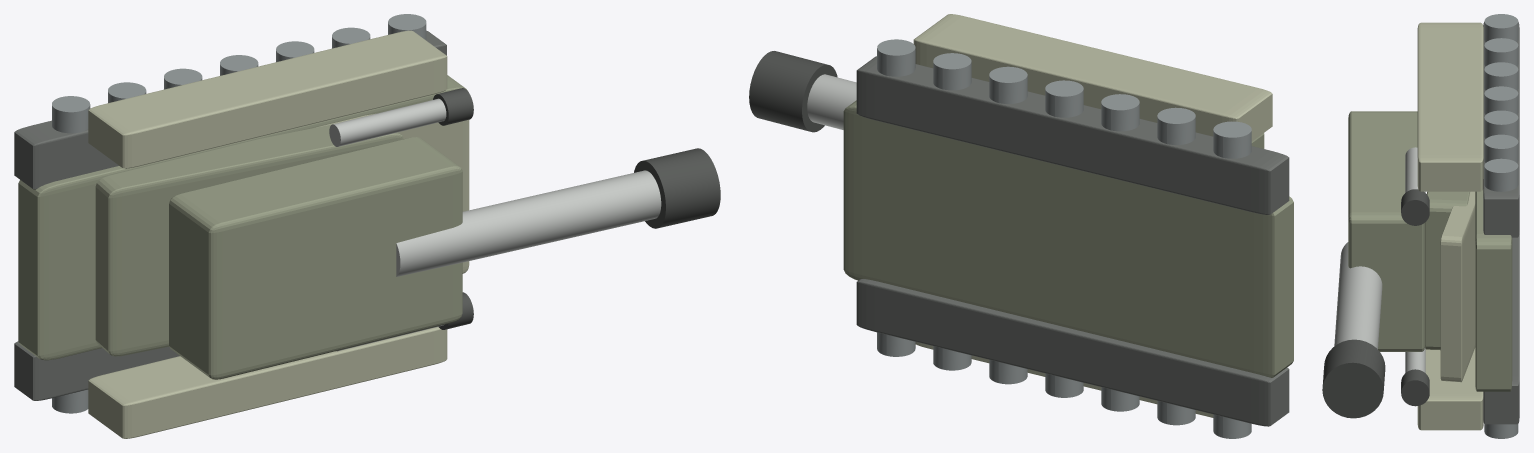
File: v-u20-vanguard-super-heavy-lod1.glb
3 renders of one model, left to right at view 1: azimuth 30°, elevation 25°; view 2: azimuth 150°, elevation 25°; view 3: azimuth 270°, elevation 25°, orthographic. The views are drawn at different scales.
Visible parts, largest first — view 1: superheavy_turret, armor_belt_1, upper_hull, armor_belt_-1, chassis_lower, superheavy_main_barrel_0, chassis_track_1, chassis_track_-1, superheavy_main_muzzle_0, sponson_1_barrel_0, chassis_glacis, chassis_roadwheel_1_0 (+3 smaller); view 2: chassis_lower, chassis_track_1, chassis_track_-1, armor_belt_1, superheavy_main_muzzle_0, superheavy_main_barrel_0, chassis_roadwheel_1_0, chassis_roadwheel_1_2, chassis_roadwheel_1_3, chassis_roadwheel_1_6, chassis_roadwheel_1_5, chassis_roadwheel_1_4 (+8 smaller); view 3: superheavy_turret, armor_belt_1, chassis_lower, chassis_glacis, superheavy_main_muzzle_0, armor_belt_-1, superheavy_main_barrel_0, upper_hull, chassis_track_-1, chassis_track_1, chassis_roadwheel_1_6, sponson_-1_muzzle_0 (+10 smaller).
Boxes of the visible parts, x1,y1,x2,y2 form: superheavy_turret: (169, 137, 462, 379); armor_belt_1: (88, 30, 447, 168); upper_hull: (95, 124, 403, 356); armor_belt_-1: (88, 327, 447, 438); chassis_lower: (18, 75, 468, 360); superheavy_main_barrel_0: (396, 170, 661, 276); chassis_track_1: (14, 30, 446, 189); chassis_track_-1: (14, 341, 179, 400); superheavy_main_muzzle_0: (634, 148, 720, 228); sponson_1_barrel_0: (329, 98, 446, 146); chassis_glacis: (316, 113, 469, 273); chassis_roadwheel_1_0: (52, 96, 90, 133); chassis_lower: (843, 100, 1293, 377); chassis_track_1: (856, 56, 1289, 214); chassis_track_-1: (856, 279, 1289, 426); armor_belt_1: (913, 14, 1272, 141); superheavy_main_muzzle_0: (749, 51, 837, 132); superheavy_main_barrel_0: (807, 74, 856, 129); chassis_roadwheel_1_0: (1213, 121, 1251, 158); chassis_roadwheel_1_2: (1101, 94, 1139, 131); chassis_roadwheel_1_3: (1045, 80, 1083, 117); chassis_roadwheel_1_6: (877, 39, 915, 76); chassis_roadwheel_1_5: (933, 53, 971, 90); chassis_roadwheel_1_4: (989, 66, 1027, 103); superheavy_turret: (1348, 111, 1425, 351); armor_belt_1: (1417, 22, 1483, 191); chassis_lower: (1475, 189, 1512, 391); chassis_glacis: (1440, 191, 1475, 382); superheavy_main_muzzle_0: (1322, 339, 1385, 418); armor_belt_-1: (1417, 348, 1483, 430); superheavy_main_barrel_0: (1334, 242, 1382, 349); upper_hull: (1425, 191, 1469, 350); chassis_track_-1: (1483, 232, 1519, 424); chassis_track_1: (1483, 22, 1519, 237); chassis_roadwheel_1_6: (1484, 158, 1518, 191); sponson_-1_muzzle_0: (1401, 369, 1429, 406).
Size of what is drawn, in the model's own units: 12.85 by 6.3 by 4.16.
